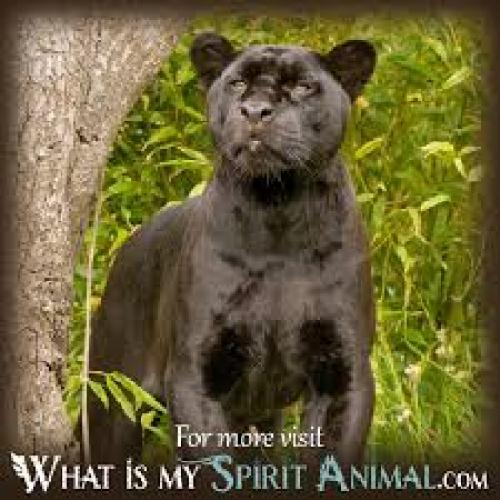panther-endangered: (85, 32, 380, 471)
